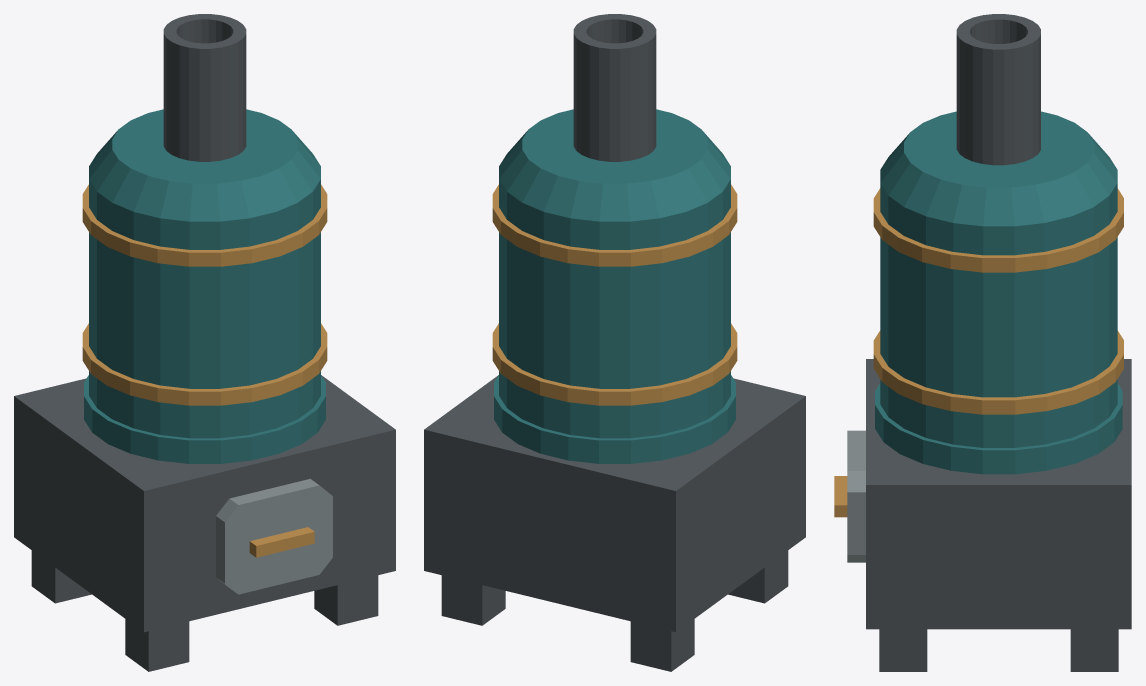
3 views of the same model, side by side, from view 1: azimuth 30°, elevation 25°; view 2: azimuth 150°, elevation 25°; view 3: azimuth 270°, elevation 25° (orthographic). The views are drawn at different scales.
Visible parts, largest first — view 1: SteppedVerticalBarrel, ClosedFireboxCasing, ThickBlindOpenTopFlue, ClosedOctagonalInspectionDoor, LowGroundFoot_0, LowGroundFoot_1, LowGroundFoot_2, SolidDoorLatch; view 2: SteppedVerticalBarrel, ClosedFireboxCasing, ThickBlindOpenTopFlue, LowGroundFoot_2, LowGroundFoot_3, LowGroundFoot_0; view 3: SteppedVerticalBarrel, ClosedFireboxCasing, ThickBlindOpenTopFlue, ClosedOctagonalInspectionDoor, LowGroundFoot_1, LowGroundFoot_3, SolidDoorLatch.
Part boxes in pixels (<box>): SteppedVerticalBarrel: <box>82,109,327,463</box>; ClosedFireboxCasing: <box>14,375,395,632</box>; ThickBlindOpenTopFlue: <box>163,14,246,161</box>; ClosedOctagonalInspectionDoor: <box>216,479,332,594</box>; LowGroundFoot_0: <box>125,619,189,671</box>; LowGroundFoot_1: <box>314,575,378,625</box>; LowGroundFoot_2: <box>31,550,91,603</box>; SolidDoorLatch: <box>249,527,314,557</box>; SteppedVerticalBarrel: <box>492,109,737,463</box>; ClosedFireboxCasing: <box>424,375,805,632</box>; ThickBlindOpenTopFlue: <box>573,14,656,161</box>; LowGroundFoot_2: <box>630,619,694,671</box>; LowGroundFoot_3: <box>441,575,505,625</box>; LowGroundFoot_0: <box>728,550,788,603</box>; SteppedVerticalBarrel: <box>873,111,1123,474</box>; ClosedFireboxCasing: <box>866,359,1131,629</box>; ThickBlindOpenTopFlue: <box>956,14,1040,165</box>; ClosedOctagonalInspectionDoor: <box>847,430,865,562</box>; LowGroundFoot_1: <box>879,629,927,671</box>; LowGroundFoot_3: <box>1070,629,1118,671</box>; SolidDoorLatch: <box>834,476,847,517</box>.
Size of the model in its own units: 1.12 by 2.42 by 1.12.
